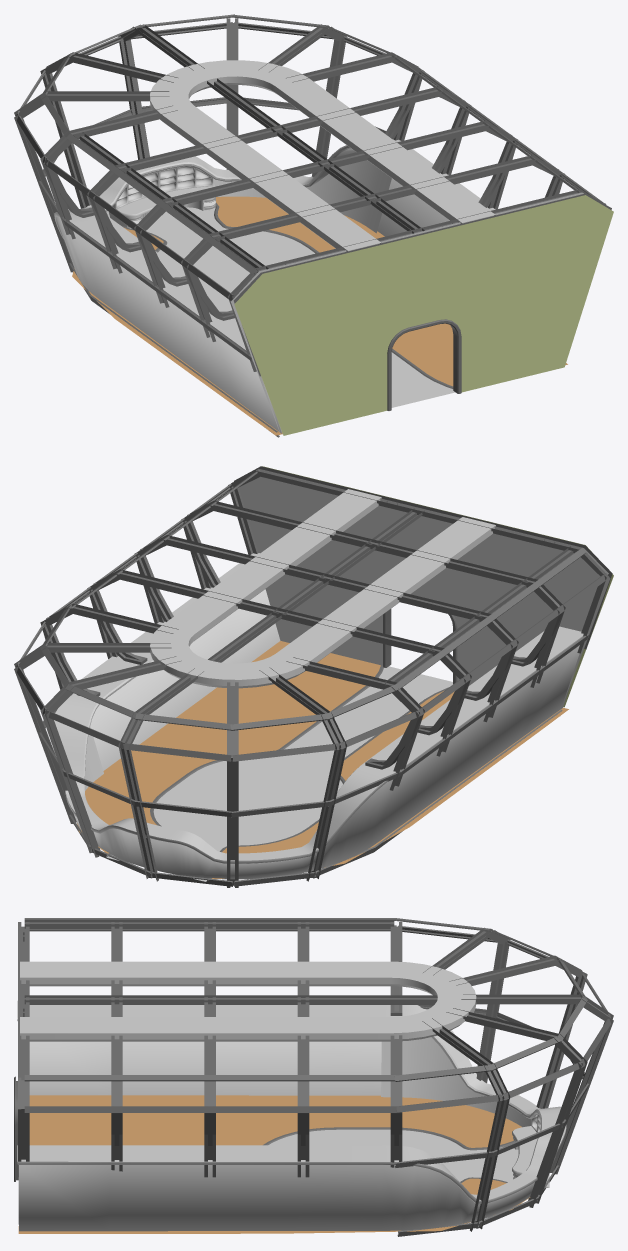
File: ArchitectureGlobal.fbx
3 renders of one model, top to bottom at view 1: azimuth 30°, elevation 25°; view 2: azimuth 150°, elevation 25°; view 3: azimuth 270°, elevation 25°, orthographic.
Visible parts, largest first — view 1: Plane; view 2: Plane; view 3: Plane.
Part boxes in pixels (<box>): Plane: <box>14,14,613,437</box>; Plane: <box>14,466,613,887</box>; Plane: <box>14,918,613,1236</box>.
Size of the model in its own units: 1872 by 830 by 2575.
